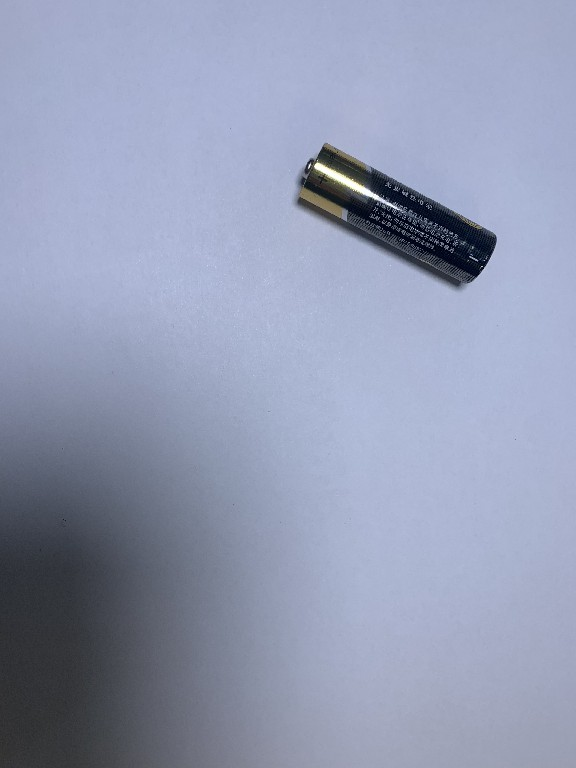charge: (289, 136, 504, 296)
